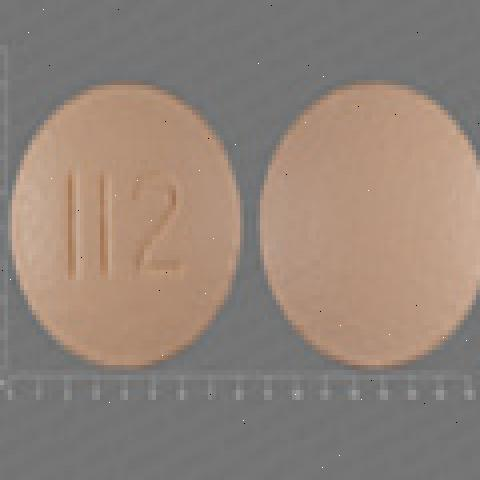Pill: (245, 69, 480, 392), (8, 72, 251, 370)
